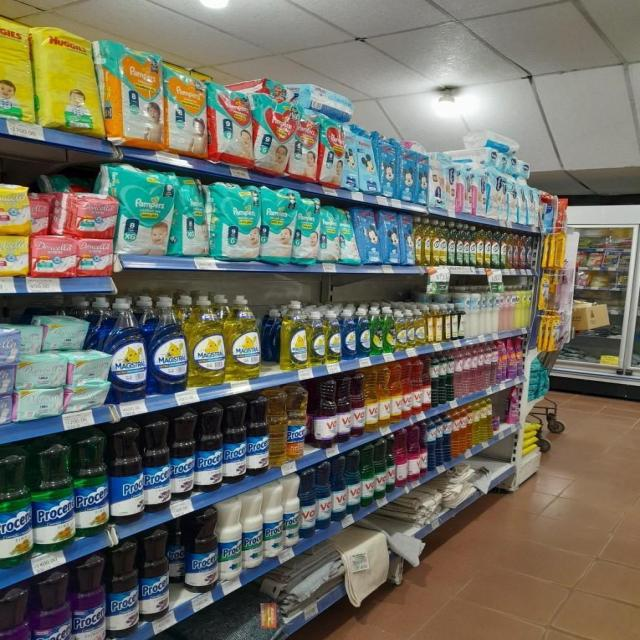ala_conc_amarillo: (519, 233, 526, 270)
ala_crem_blanco: (469, 287, 479, 336), (491, 287, 500, 333), (481, 287, 489, 334)
ala_crem_rosado: (502, 286, 512, 330)
cif_conc_bot_amarilla: (435, 220, 446, 266), (414, 218, 424, 266), (425, 219, 433, 265), (476, 228, 484, 268), (501, 232, 508, 268), (485, 229, 491, 268)
cif_conc_botella_verde: (447, 222, 455, 266), (492, 230, 500, 268), (456, 225, 463, 266), (471, 227, 478, 266), (462, 225, 468, 266)
magistral_con_amarillo: (188, 294, 224, 387), (226, 294, 262, 380), (281, 300, 307, 369), (308, 310, 325, 366), (326, 309, 341, 363), (396, 309, 405, 350), (416, 308, 425, 346), (407, 309, 415, 348)
magistral_con_azul: (149, 294, 186, 394), (342, 308, 356, 360), (357, 307, 370, 357)
